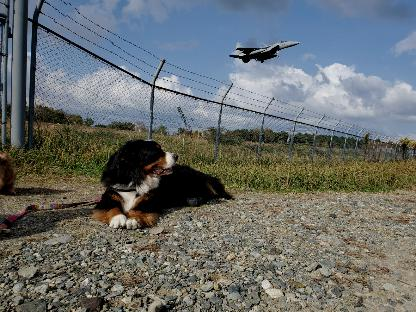F117: (229, 40, 301, 62)
